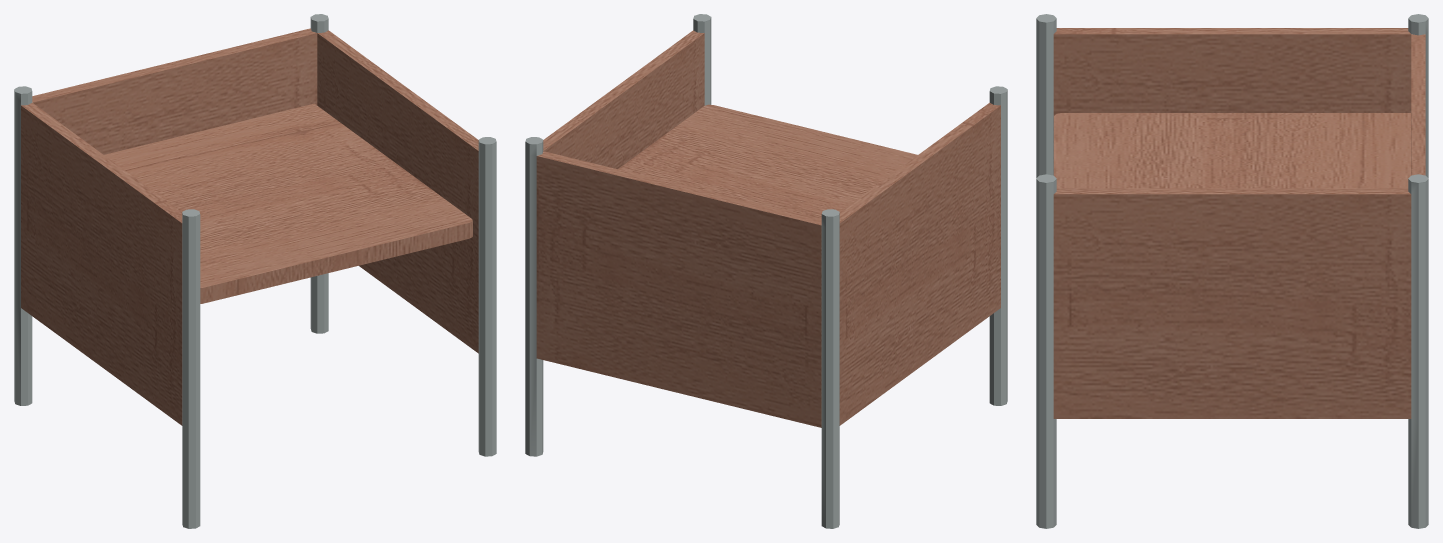
File: dataPC_desk.fbx
3 views of the same model, side by side, from view 1: azimuth 30°, elevation 25°; view 2: azimuth 150°, elevation 25°; view 3: azimuth 270°, elevation 25° (orthographic). The views are drawn at different scales.
Visible parts, largest first — view 1: dataPC_desk; view 2: dataPC_desk; view 3: dataPC_desk.
Part boxes in pixels (<box>): dataPC_desk: <box>14,14,496,528</box>; dataPC_desk: <box>525,14,1007,528</box>; dataPC_desk: <box>1036,14,1428,528</box>.
Size of the model in its own units: 0.00799 by 0.00763 by 0.00784.
Materials: 1 (1 with a texture image).
